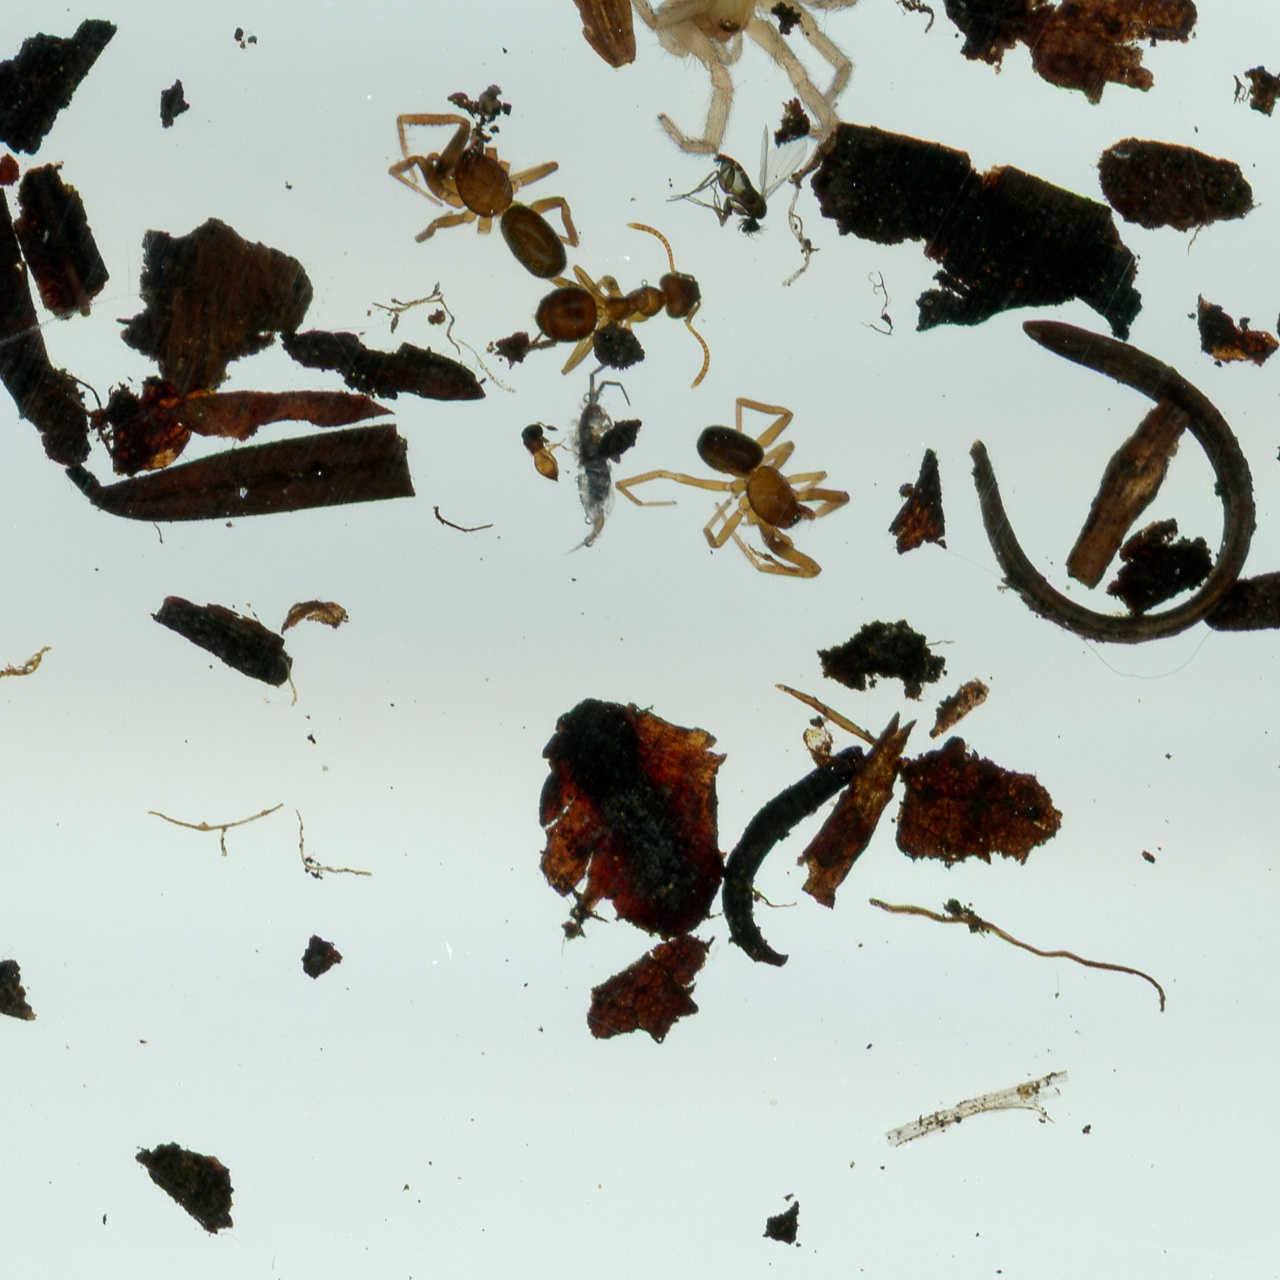arthropod: (582, 0, 889, 146), (617, 398, 855, 584), (388, 101, 576, 277), (533, 219, 714, 389), (668, 126, 814, 228), (572, 359, 629, 555), (521, 418, 569, 486)
